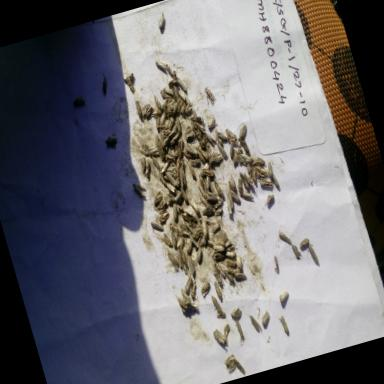pbw: (246, 311, 264, 337), (234, 318, 249, 347), (210, 324, 228, 348), (201, 83, 218, 108), (69, 90, 88, 112), (306, 242, 322, 268), (153, 8, 170, 32), (199, 279, 216, 302), (168, 198, 183, 224), (186, 140, 204, 161), (296, 232, 312, 255), (130, 98, 146, 121), (258, 307, 274, 330), (218, 318, 234, 341), (277, 312, 291, 338), (226, 192, 241, 216), (211, 280, 226, 304), (290, 243, 306, 265), (232, 354, 248, 376), (154, 54, 170, 76), (187, 231, 202, 254), (226, 306, 245, 324), (270, 252, 284, 276), (167, 226, 181, 250), (148, 216, 166, 234), (164, 98, 182, 116), (102, 134, 120, 152), (236, 122, 252, 142), (159, 130, 175, 150), (173, 246, 185, 272), (190, 118, 203, 142), (212, 266, 225, 290), (152, 90, 166, 112), (188, 280, 202, 302), (98, 76, 112, 98), (226, 170, 240, 192), (225, 132, 242, 150), (276, 288, 293, 306), (249, 154, 268, 170), (158, 157, 174, 176), (191, 246, 207, 265), (179, 186, 194, 206), (205, 131, 220, 151), (164, 170, 178, 191), (181, 274, 195, 295), (261, 191, 277, 209), (156, 140, 168, 164), (204, 112, 220, 130), (222, 126, 238, 144), (138, 100, 154, 118), (237, 168, 250, 190), (239, 135, 252, 157), (235, 146, 248, 168), (182, 102, 197, 121), (228, 186, 242, 206), (234, 253, 248, 273), (210, 294, 224, 314), (188, 196, 202, 216), (166, 250, 180, 270), (185, 254, 197, 277), (212, 178, 225, 199), (182, 127, 198, 144), (174, 97, 190, 114), (222, 354, 238, 371), (232, 268, 249, 284), (151, 188, 166, 206), (264, 160, 278, 179), (176, 75, 190, 94), (198, 218, 210, 240), (152, 154, 164, 176), (236, 178, 248, 200), (224, 196, 236, 218), (177, 294, 189, 316), (226, 140, 239, 160), (201, 164, 217, 180), (211, 150, 226, 167), (142, 161, 156, 179), (244, 173, 258, 191), (152, 111, 164, 132), (161, 231, 174, 250), (198, 183, 210, 203), (248, 166, 260, 186), (196, 146, 208, 166), (158, 87, 172, 104), (225, 269, 237, 288), (216, 141, 228, 160), (172, 155, 184, 174), (158, 211, 172, 227), (182, 208, 196, 224), (146, 142, 160, 158), (176, 88, 190, 104), (206, 190, 220, 206), (260, 176, 274, 192), (224, 254, 238, 270), (180, 246, 190, 268), (198, 190, 210, 208), (166, 64, 178, 82), (188, 164, 200, 182), (230, 150, 242, 168), (138, 155, 150, 173), (198, 143, 210, 161), (166, 74, 181, 88), (168, 131, 182, 146), (162, 84, 176, 99), (137, 142, 150, 158), (242, 190, 255, 206), (202, 174, 214, 191), (216, 259, 228, 276), (166, 115, 178, 132), (180, 287, 192, 304), (184, 219, 196, 236), (210, 220, 224, 234), (207, 236, 221, 250), (195, 119, 208, 134), (174, 236, 186, 252), (216, 128, 228, 144), (180, 170, 190, 189), (174, 117, 184, 136), (127, 80, 138, 97), (188, 156, 202, 169), (225, 360, 238, 374), (214, 309, 228, 322), (172, 191, 186, 204), (176, 138, 187, 154), (201, 204, 214, 217), (152, 202, 166, 214), (212, 242, 226, 254), (213, 198, 227, 210), (256, 164, 268, 178), (188, 300, 200, 314), (197, 172, 206, 190), (222, 237, 234, 250), (182, 148, 193, 162), (184, 240, 195, 254), (172, 224, 182, 239), (178, 170, 186, 188), (160, 175, 169, 191), (226, 248, 238, 260), (158, 112, 168, 126), (166, 181, 176, 195), (272, 175, 281, 190), (178, 104, 189, 116), (178, 160, 187, 174), (214, 207, 225, 218), (198, 237, 208, 249), (144, 107, 154, 119), (214, 252, 226, 262), (181, 261, 189, 275), (154, 133, 162, 147)
